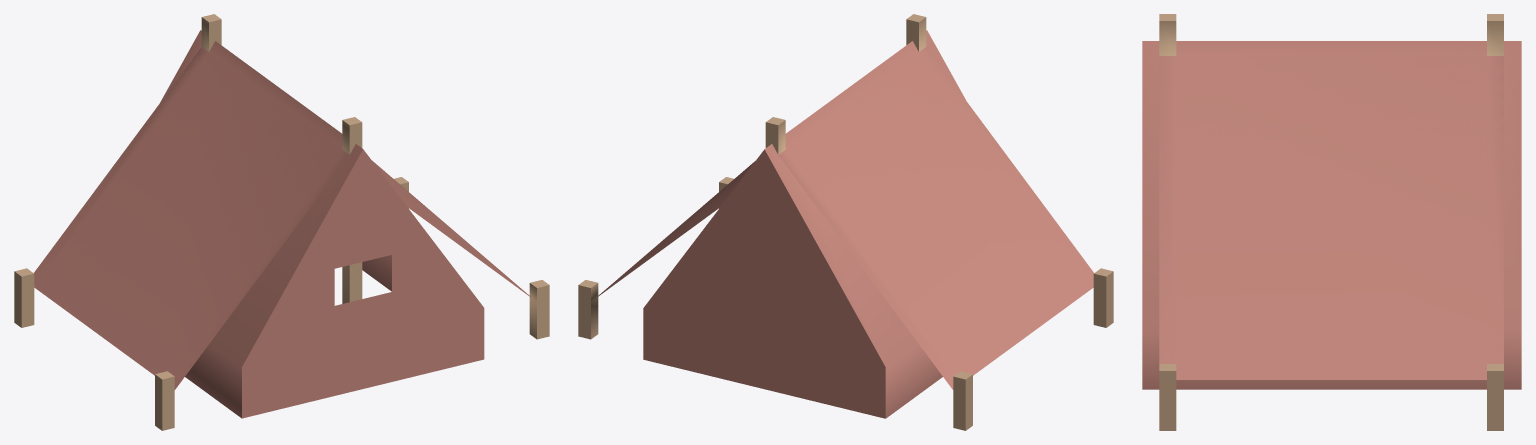
3 views of the same model, side by side, from view 1: azimuth 30°, elevation 25°; view 2: azimuth 150°, elevation 25°; view 3: azimuth 270°, elevation 25° (orthographic). The views are drawn at different scales.
Parts seen in each view (by area): view 1: model; view 2: model; view 3: model.
Boxes of the visible parts, bbox=[...] form: model: bbox=[14, 14, 549, 430]; model: bbox=[578, 14, 1113, 430]; model: bbox=[1142, 14, 1521, 430].
Bounding box in the file's own units: 2.62 × 1.68 × 1.91.
